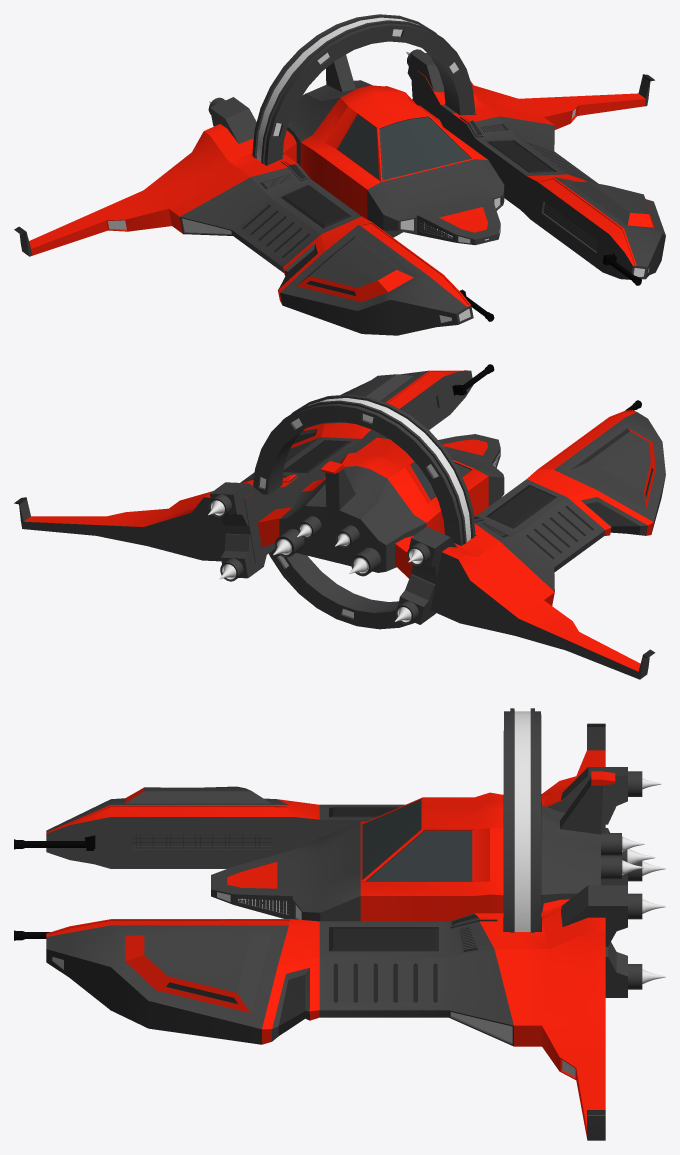
The model's file is SpaceFighter.fbx.
3 views of the same model, one above another, from view 1: azimuth 30°, elevation 25°; view 2: azimuth 150°, elevation 25°; view 3: azimuth 270°, elevation 25° (orthographic). The views are drawn at different scales.
Visible parts, largest first — view 1: SpaceFighter, Outside, InsideR; view 2: SpaceFighter, Outside, InsideR, Booster; view 3: SpaceFighter, Outside, Booster.
Part boxes in pixels (left/top/right/bottom): SpaceFighter: left=14, top=49, right=665, bottom=335; Outside: left=252, top=14, right=475, bottom=237; InsideR: left=272, top=28, right=469, bottom=234; SpaceFighter: left=14, top=364, right=665, bottom=679; Outside: left=253, top=394, right=475, bottom=629; InsideR: left=255, top=409, right=457, bottom=625; Booster: left=208, top=500, right=423, bottom=621; SpaceFighter: left=14, top=723, right=642, bottom=1140; Outside: left=503, top=708, right=541, bottom=932; Booster: left=622, top=778, right=665, bottom=984.
Size of the model in its own units: 28866 by 9648 by 20307.
